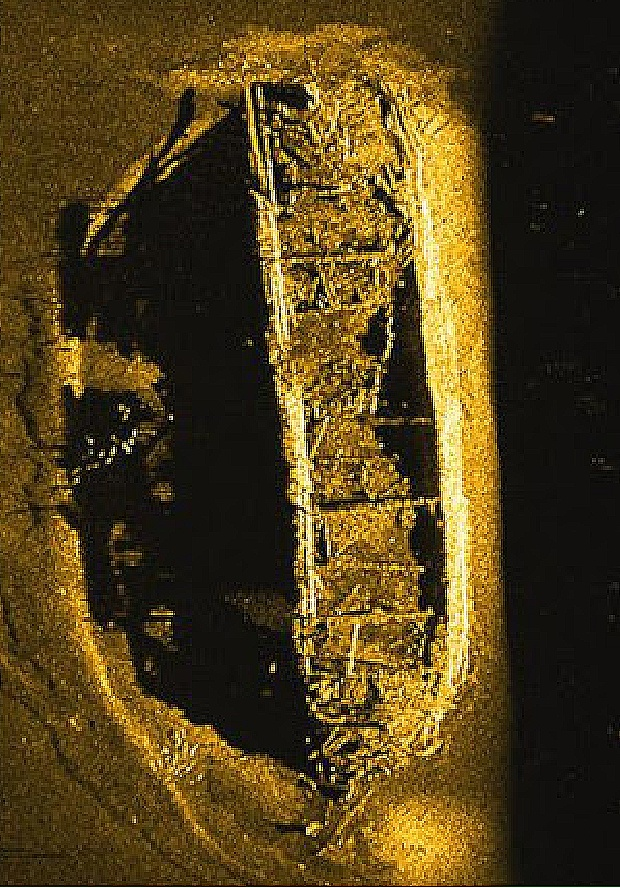ship: (238, 71, 473, 855)
